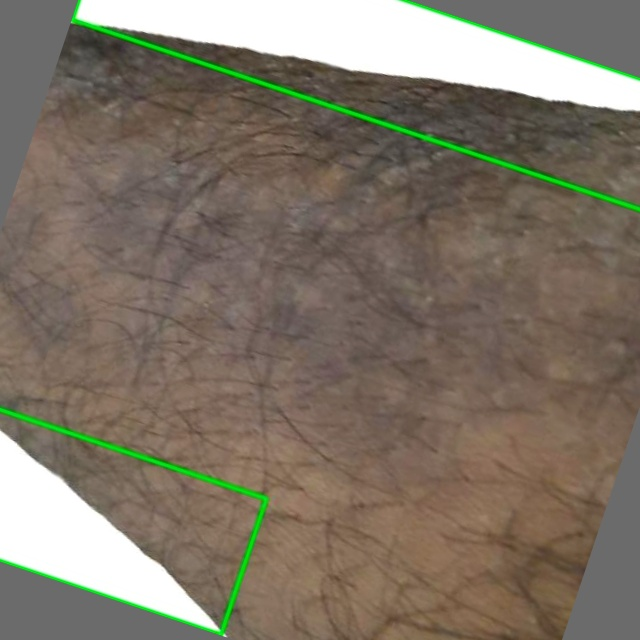Contact Dermatitis: (71, 0, 639, 210), (0, 409, 266, 634)
